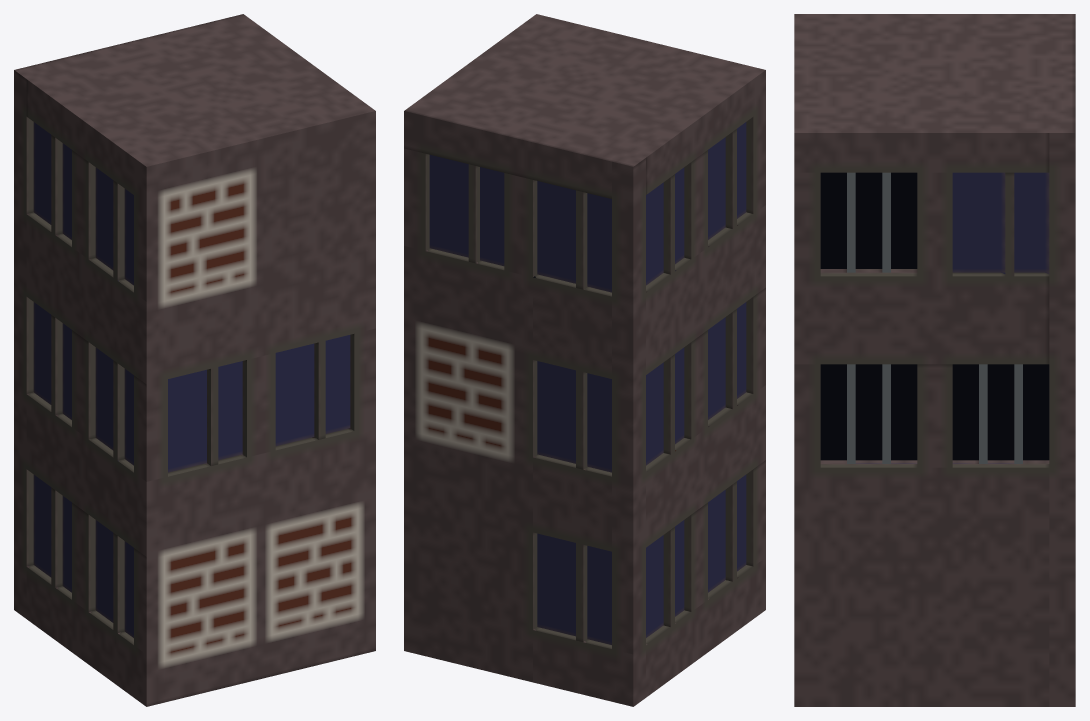
3 renders of one model, left to right at view 1: azimuth 30°, elevation 25°; view 2: azimuth 150°, elevation 25°; view 3: azimuth 270°, elevation 25°, orthographic. The views are drawn at different scales.
Visible parts, largest first — view 1: Content; view 2: Content; view 3: Content.
Part boxes in pixels (x1,y1,x2,y2): Content: [14, 14, 375, 706]; Content: [404, 14, 765, 706]; Content: [794, 14, 1075, 706].
Bounding box in the file's own units: 32 × 72 × 32.
Materials: 1 (1 with a texture image).
